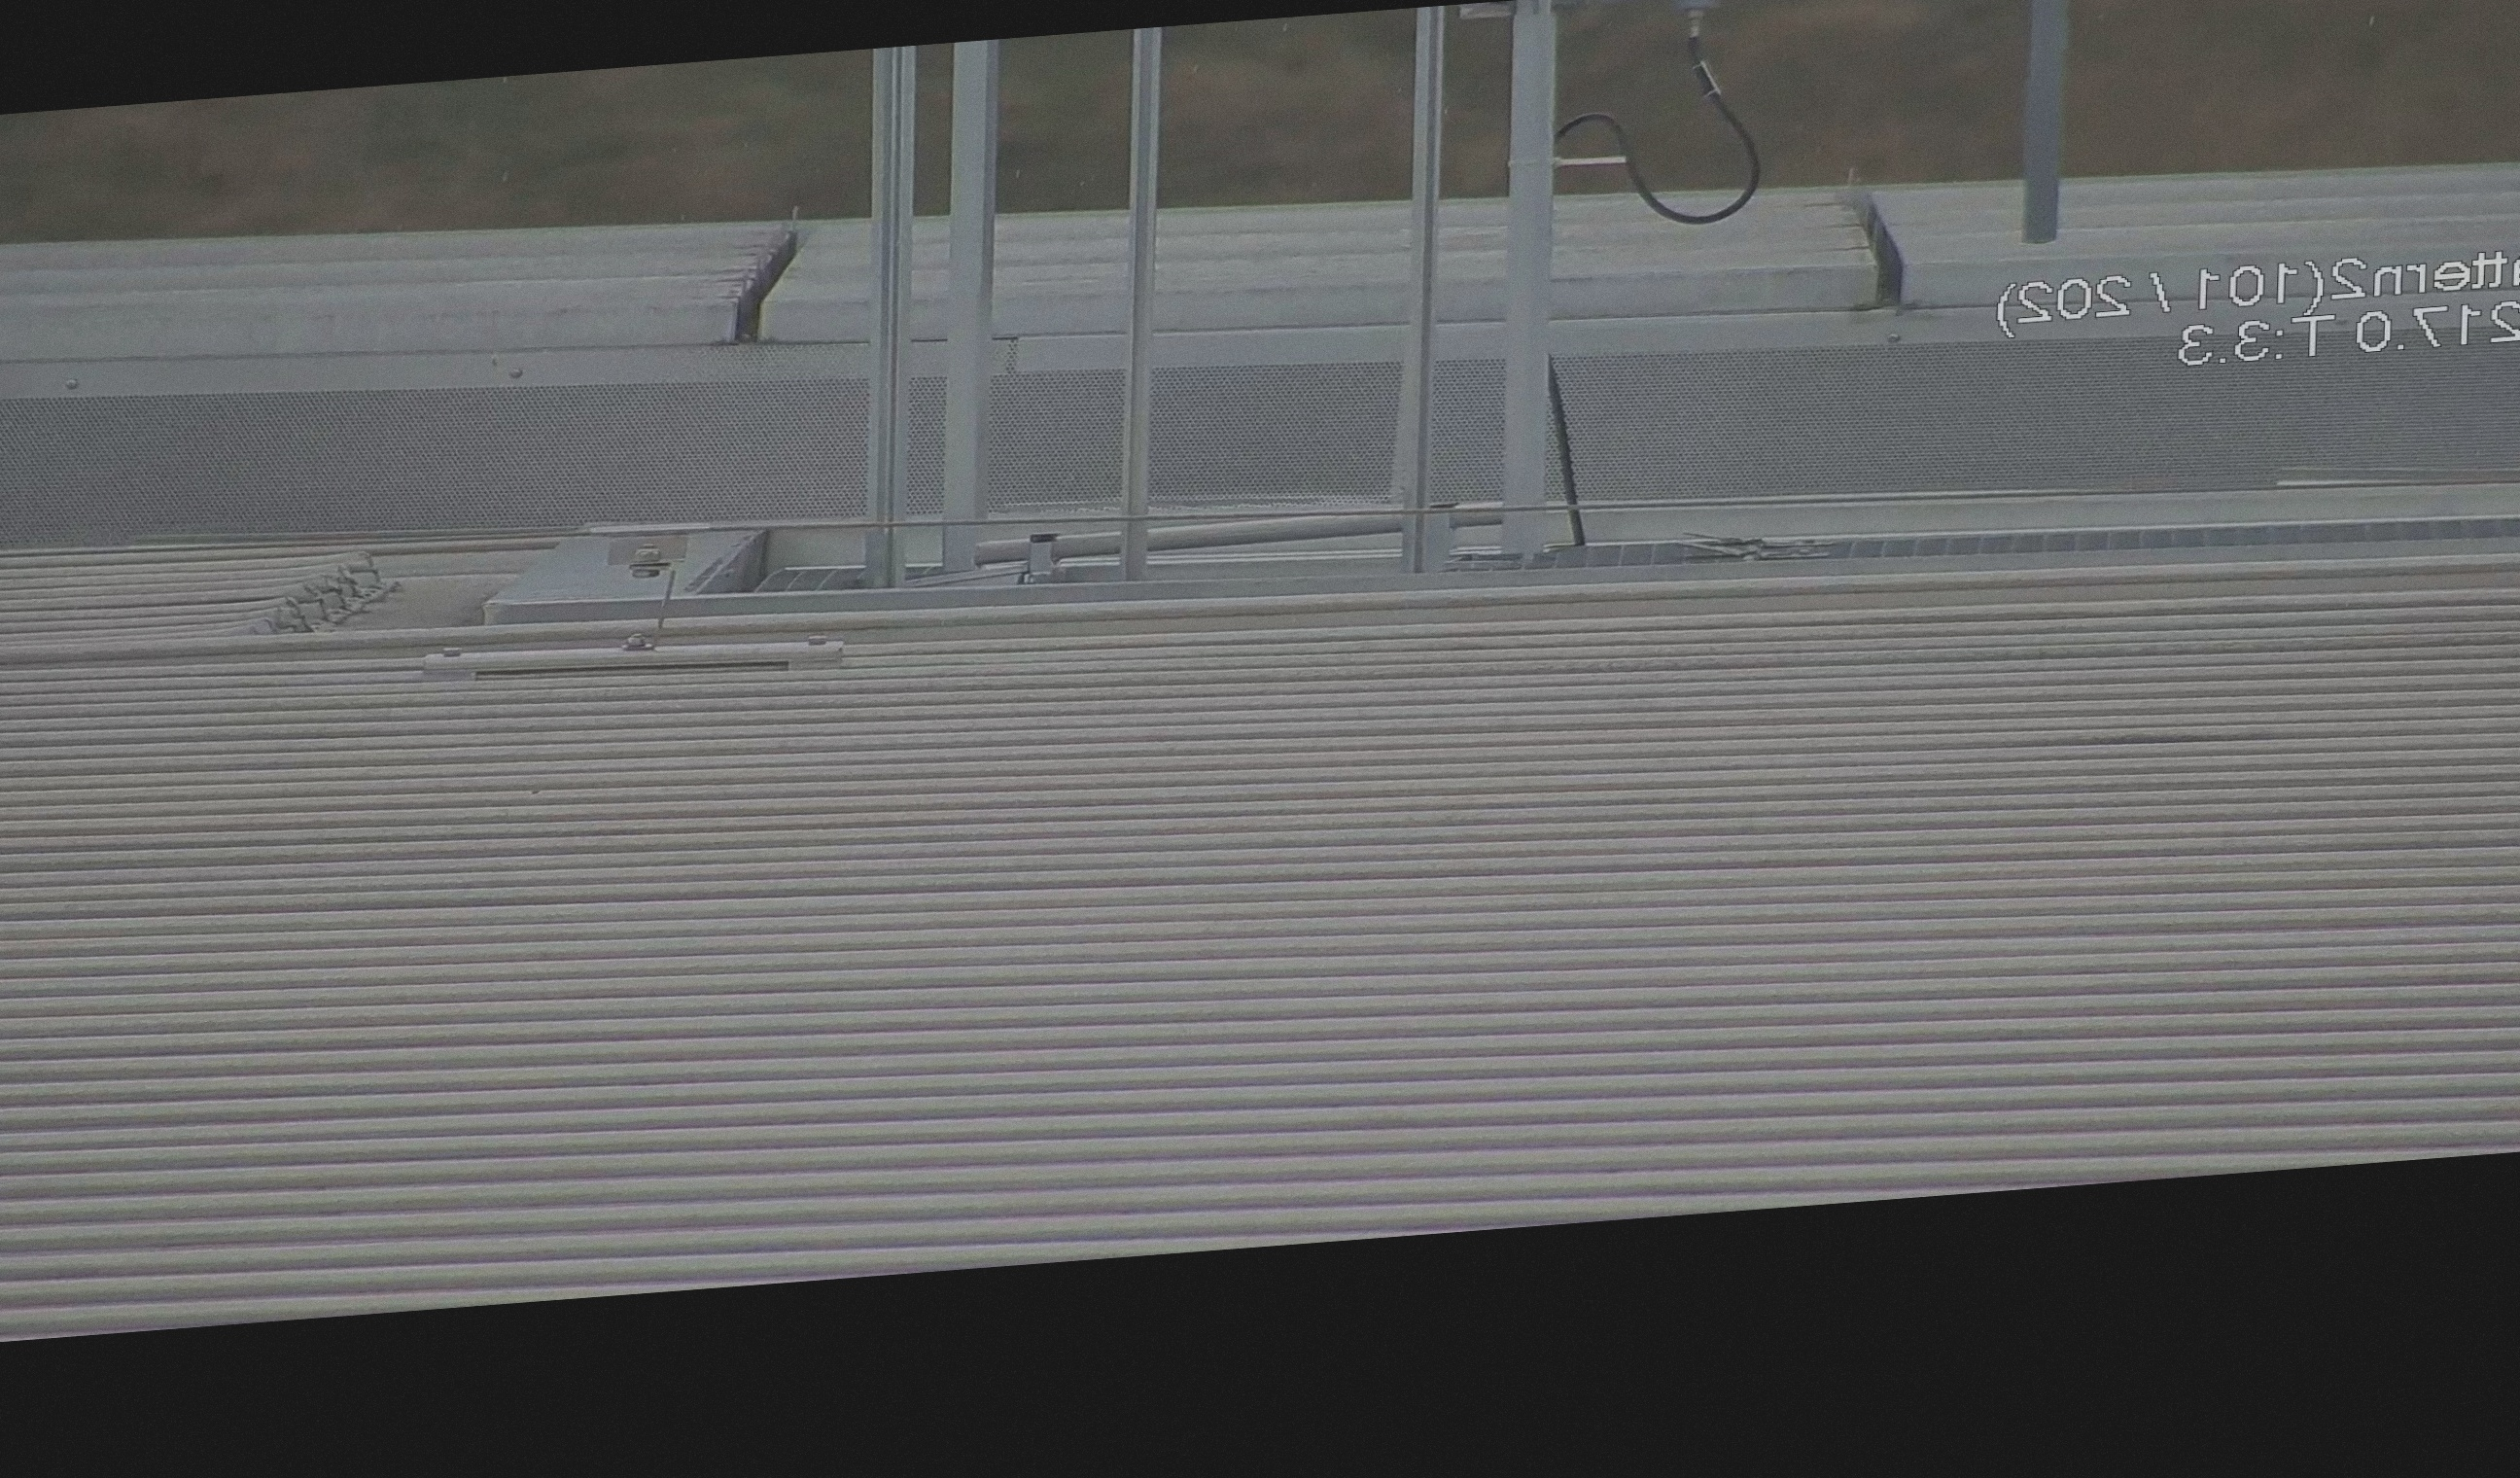Other: (693, 192, 834, 355)
